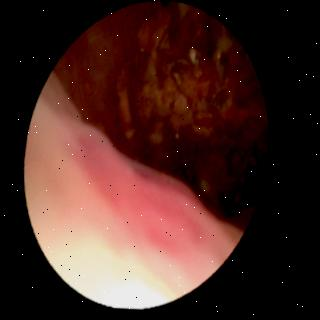stone: (117, 6, 267, 213)
tissue: (33, 9, 246, 305)
